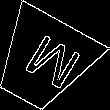M_SW: (9, 28, 77, 95)
